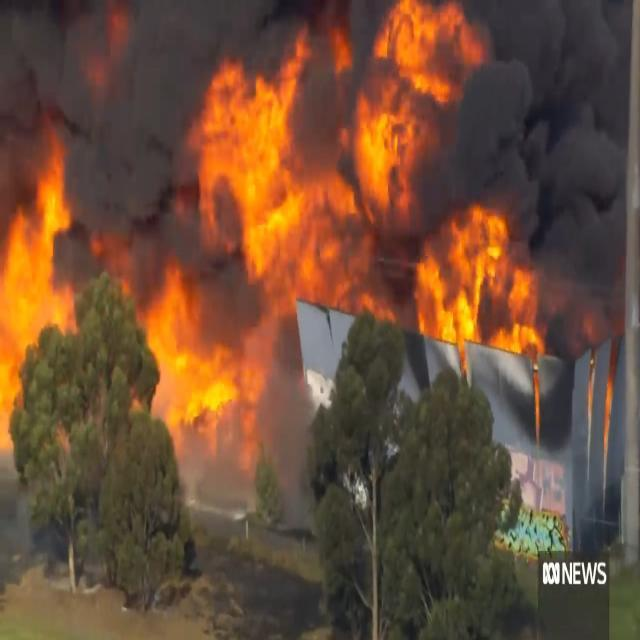fire: (192, 2, 494, 326), (149, 272, 253, 417), (0, 140, 78, 332), (0, 331, 29, 445)
